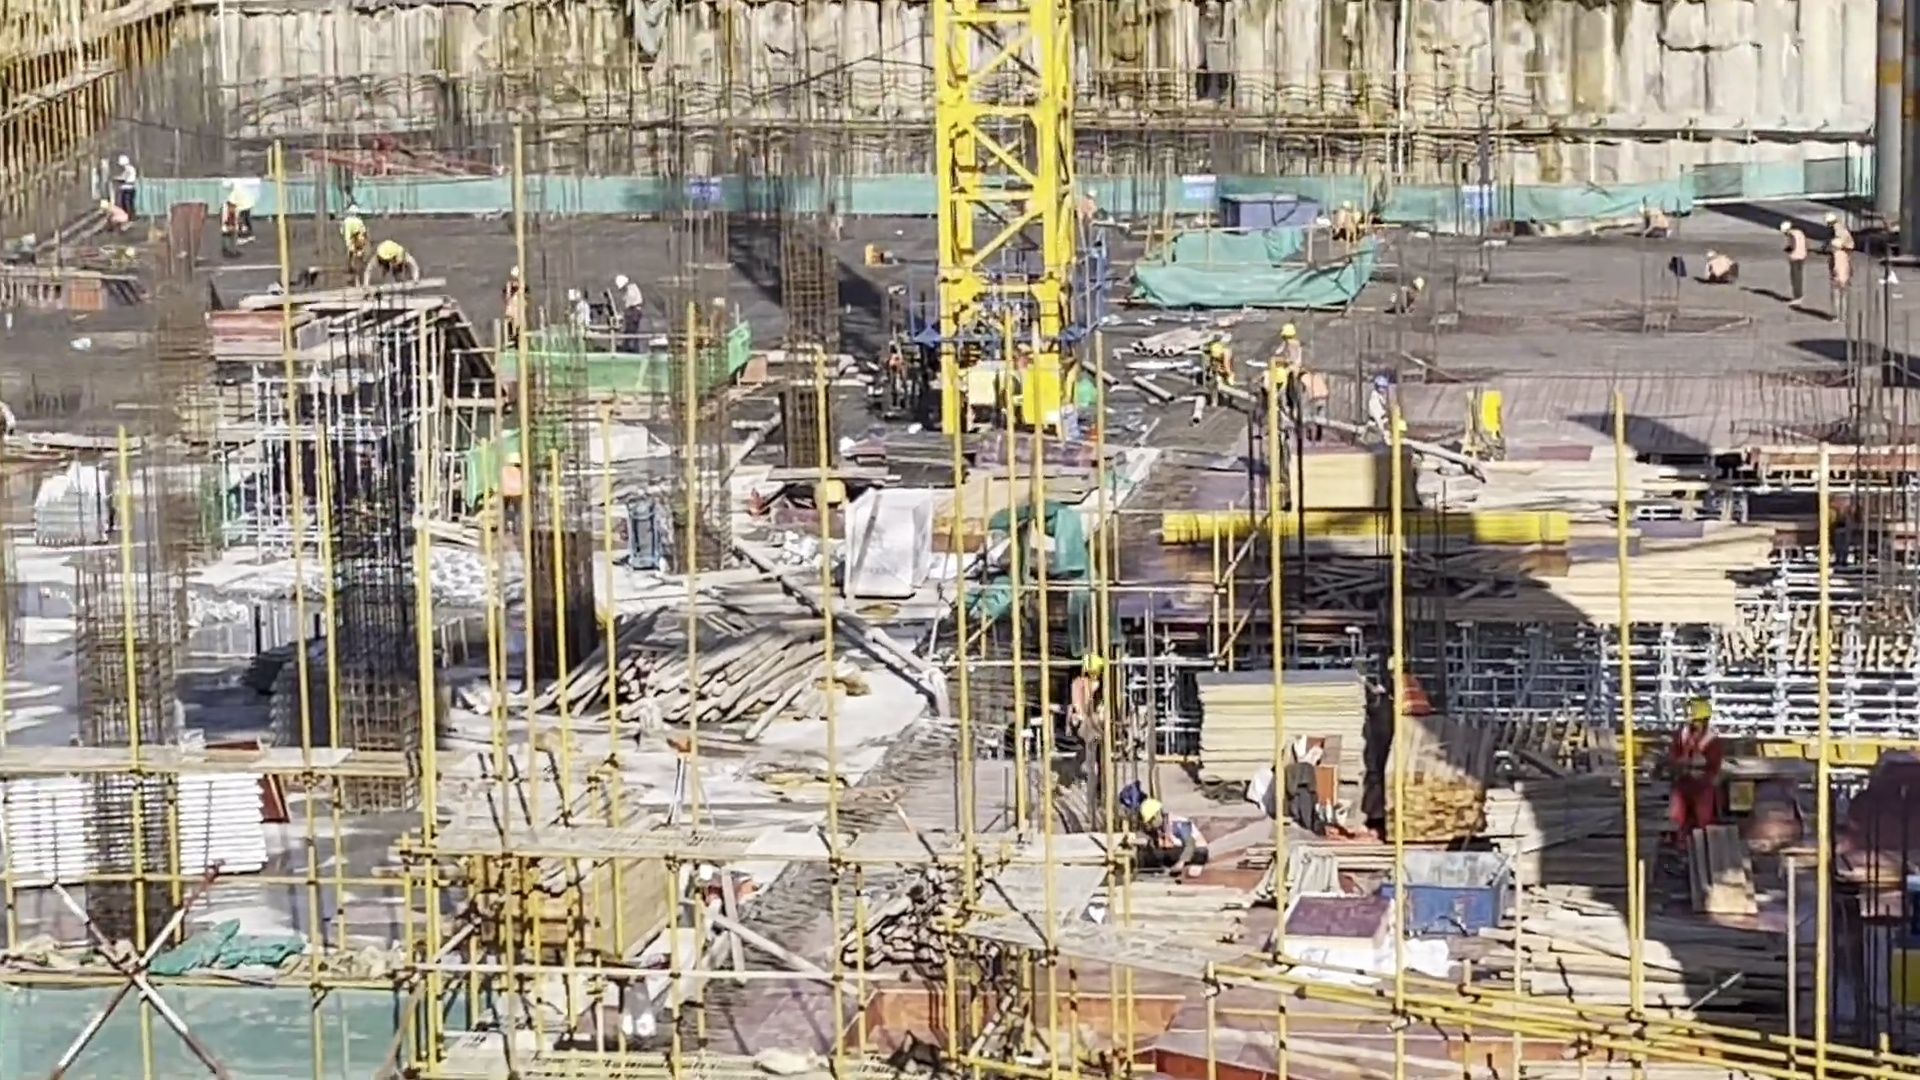board: (1194, 672, 1378, 789), (1274, 442, 1426, 524)
cutter: (763, 446, 903, 519)
ebox: (1013, 369, 1063, 436), (1473, 391, 1523, 459), (1879, 946, 1920, 1022)
helmet: (1688, 701, 1716, 722), (1380, 654, 1411, 673), (1082, 653, 1105, 677), (1282, 321, 1297, 346), (385, 243, 404, 264), (117, 153, 141, 167), (1298, 363, 1313, 384), (1148, 804, 1164, 823), (1275, 367, 1288, 388), (1414, 278, 1431, 293), (1703, 244, 1718, 259), (1827, 210, 1840, 226), (1373, 373, 1386, 388), (614, 273, 628, 288), (515, 268, 527, 283), (571, 289, 586, 301), (1211, 341, 1222, 353), (349, 201, 357, 218), (1836, 232, 1843, 247), (222, 170, 228, 187), (1344, 201, 1356, 209), (1638, 207, 1653, 212), (1781, 222, 1791, 230)
hopper: (1373, 862, 1515, 927), (1211, 176, 1329, 227)
person: (1663, 692, 1723, 838), (1139, 798, 1217, 879), (1377, 650, 1435, 726), (1073, 647, 1107, 770), (1062, 181, 1114, 252), (1277, 308, 1309, 419), (506, 256, 543, 349), (1300, 367, 1343, 443), (1777, 216, 1811, 314), (1364, 373, 1413, 435), (372, 234, 422, 295), (615, 270, 647, 352), (1827, 237, 1859, 318), (1203, 338, 1248, 394), (117, 152, 151, 219), (232, 179, 269, 239), (1695, 247, 1737, 293), (1819, 207, 1865, 245), (1394, 271, 1428, 317), (571, 280, 593, 345), (343, 208, 367, 267), (1642, 200, 1675, 238), (1, 390, 23, 431), (1336, 194, 1353, 243)
vest: (1153, 820, 1213, 861), (1673, 733, 1714, 786), (1270, 388, 1333, 414), (1068, 679, 1100, 730), (1709, 252, 1745, 290), (1371, 387, 1398, 434), (506, 278, 532, 326), (1401, 678, 1431, 716), (1831, 240, 1851, 288), (1393, 289, 1421, 318), (1213, 350, 1236, 387), (1646, 213, 1671, 244), (571, 301, 594, 334), (386, 245, 414, 272), (1274, 341, 1302, 366), (1085, 199, 1106, 228), (1793, 231, 1809, 269), (1835, 224, 1853, 253), (351, 224, 366, 252), (1, 400, 16, 429), (111, 205, 128, 226), (223, 203, 236, 229), (125, 166, 139, 191), (625, 283, 638, 309), (1339, 209, 1351, 231)
wood: (613, 602, 808, 737), (529, 827, 673, 957), (1548, 902, 1704, 1021), (1488, 786, 1618, 854), (1399, 736, 1483, 839)
